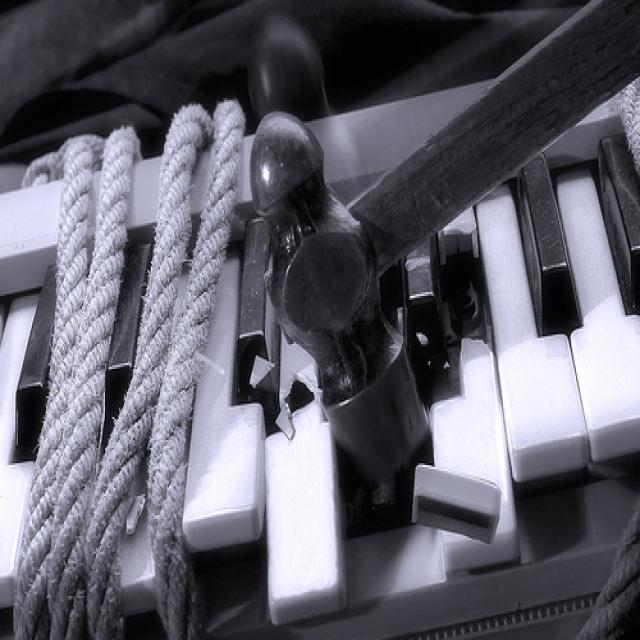hammer: (244, 23, 640, 455)
